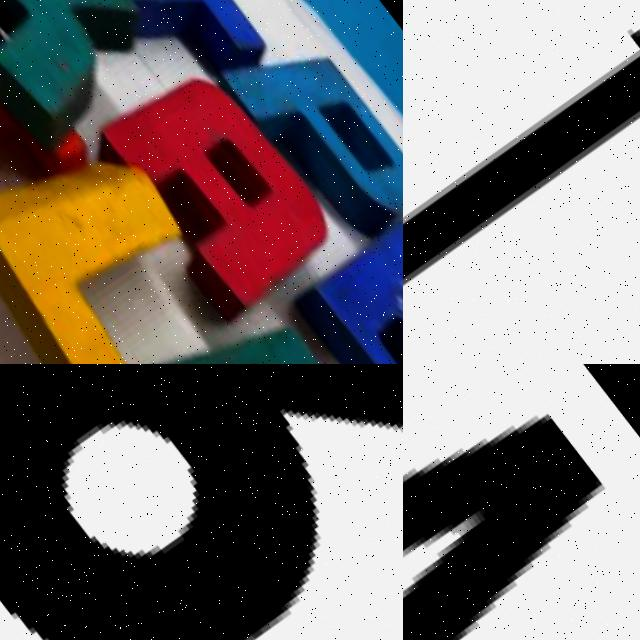1: (403, 0, 640, 297)
6: (0, 364, 403, 640)
A: (79, 60, 350, 331), (403, 364, 640, 640)
B: (274, 204, 403, 364)
D: (103, 304, 391, 364)
K: (0, 0, 179, 160)
L: (0, 112, 295, 364)
P: (217, 37, 403, 254)
T: (56, 0, 272, 109)
